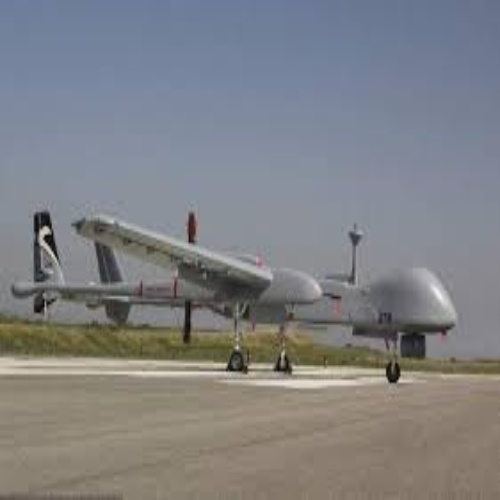uav227: (8, 205, 457, 387)
